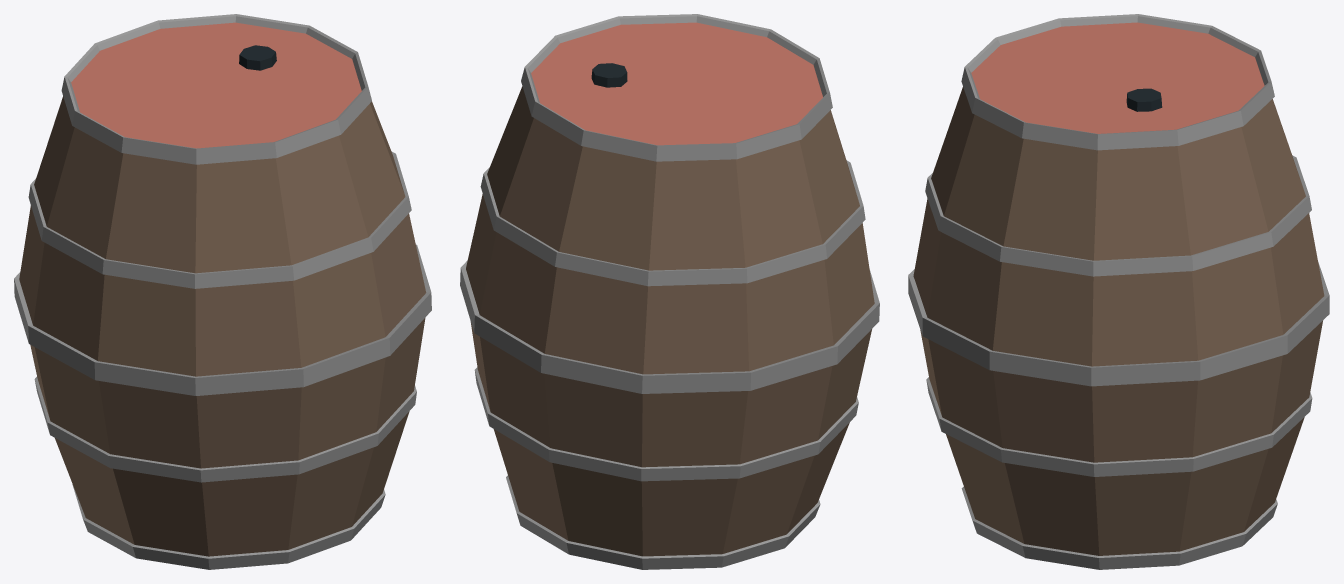
File: Barrel_1.fbx
3 views of the same model, side by side, from view 1: azimuth 30°, elevation 25°; view 2: azimuth 150°, elevation 25°; view 3: azimuth 270°, elevation 25° (orthographic).
Visible parts, largest first — view 1: Barrel_1; view 2: Barrel_1; view 3: Barrel_1.
Part boxes in pixels (bbox=[...]): Barrel_1: bbox=[14, 14, 431, 569]; Barrel_1: bbox=[460, 14, 879, 569]; Barrel_1: bbox=[908, 14, 1329, 569].
Bounding box in the file's own units: 72.52 × 72.45 × 83.39.
